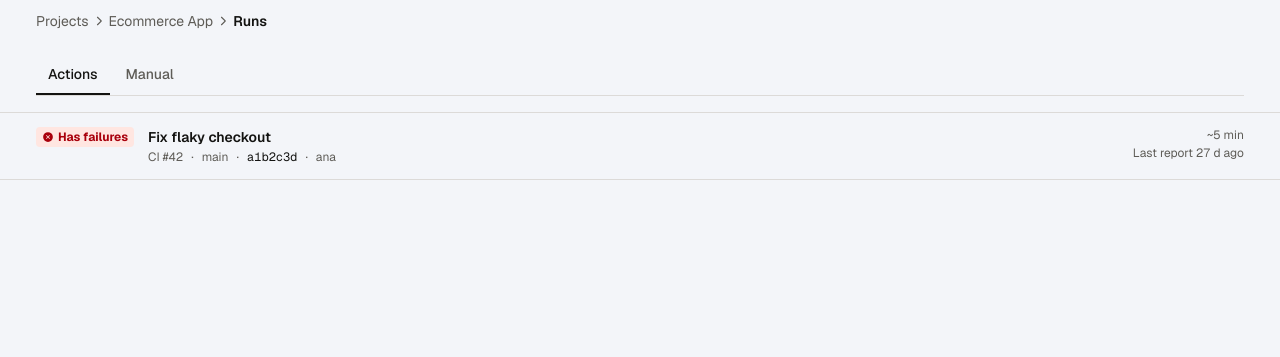
the runs page tabs › what mounts › mounts the manual runs only once the Manual tab is activated
Expected: the link "Fix flaky checkout" is shown, [36,127,1244,165]
Click the tab "Manual" at (150, 75), box [114,55,186,95]
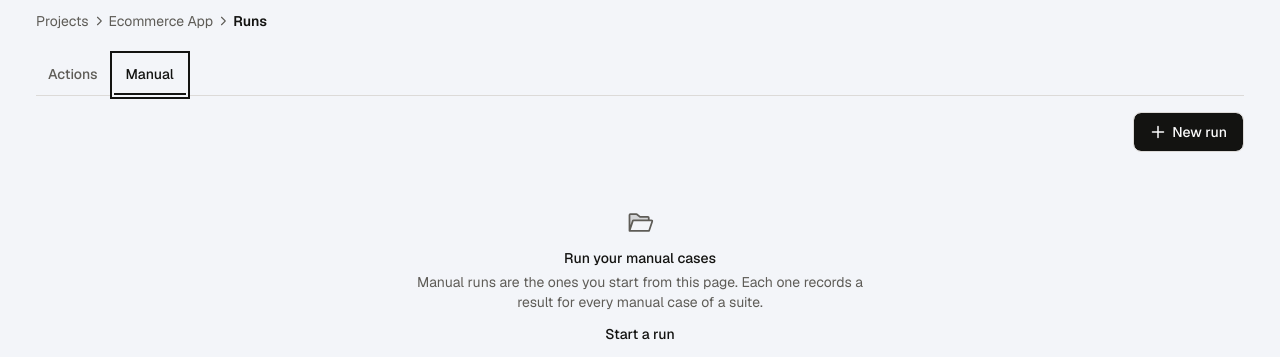
Expected: the text "Run your manual cases" is shown, [564,249,716,267]
Expected: the link "Fix flaky checkout" is gone
